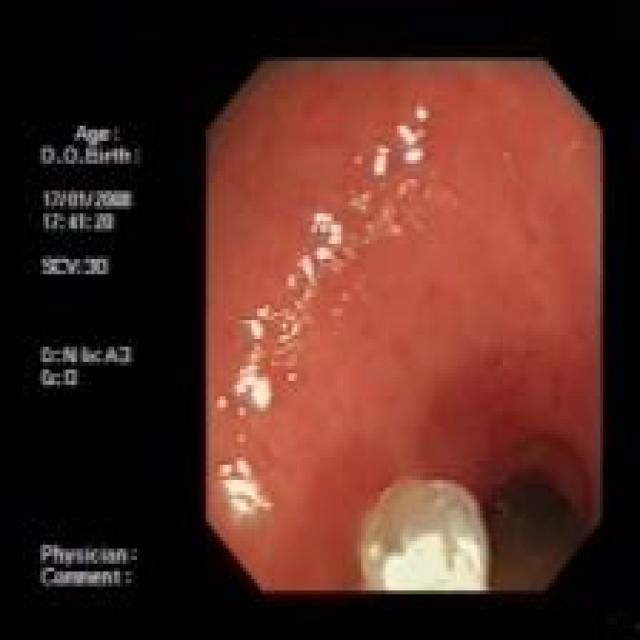color misalignment: (36, 120, 144, 594)
contrast: (484, 449, 601, 590)
instrument: (357, 474, 489, 590)
specularity: (382, 530, 483, 589), (217, 473, 262, 516), (391, 122, 429, 166), (233, 369, 272, 410), (308, 208, 344, 247), (368, 138, 394, 181), (242, 310, 263, 341), (409, 97, 432, 122), (298, 252, 314, 281)
